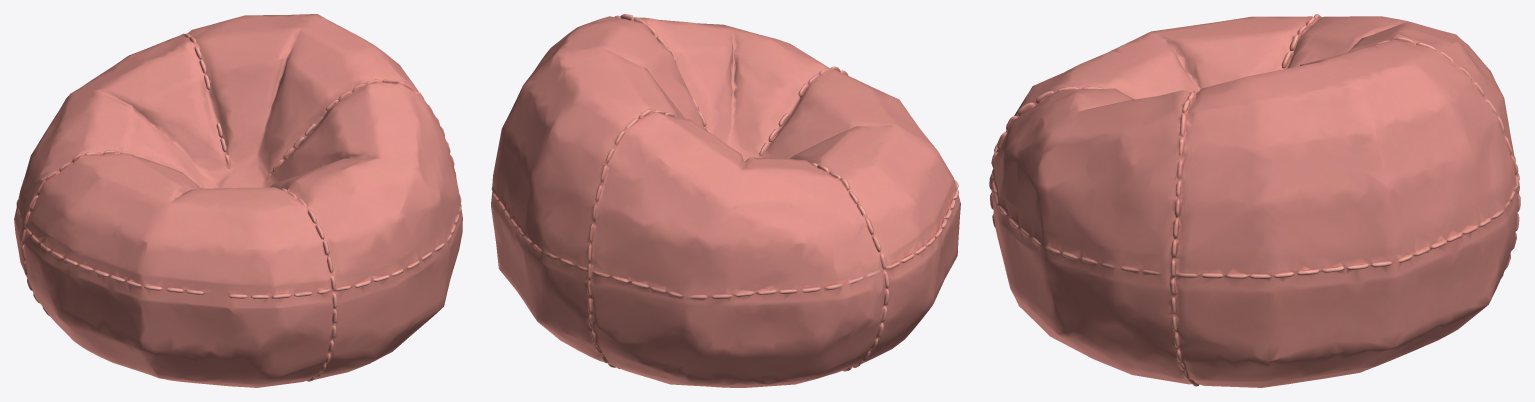
The model's file is furniture_beanbag.glb.
The picture shows the model from 3 angles, left to right: view 1: azimuth 30°, elevation 25°; view 2: azimuth 150°, elevation 25°; view 3: azimuth 270°, elevation 25°; orthographic projection. The views are drawn at different scales.
Parts seen in each view (by area): view 1: tripo_node_7e75d4e0-ff15-4237-b0ef-eabbaafc2863; view 2: tripo_node_7e75d4e0-ff15-4237-b0ef-eabbaafc2863; view 3: tripo_node_7e75d4e0-ff15-4237-b0ef-eabbaafc2863.
Boxes of the visible parts, <box> form: tripo_node_7e75d4e0-ff15-4237-b0ef-eabbaafc2863: <box>14,14,462,387</box>; tripo_node_7e75d4e0-ff15-4237-b0ef-eabbaafc2863: <box>491,14,960,387</box>; tripo_node_7e75d4e0-ff15-4237-b0ef-eabbaafc2863: <box>989,14,1520,387</box>.
Bounding box in the file's own units: 0.98 × 0.6318 × 0.9784.
1 material, 1 textured.
